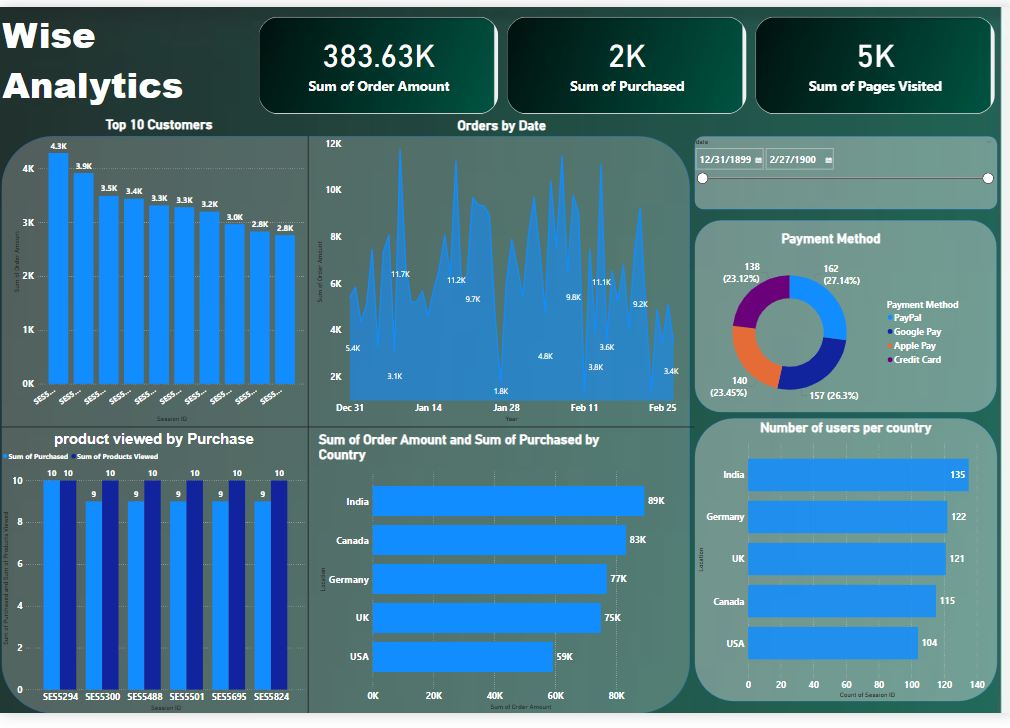

What the dashboard file says about the page in this screenshot:
{"tool":"powerbi","page":{"name":"Page 1","canvas":[2300,1600],"ordinal":0},"visuals":[{"type":"shape","box":[1573.5,483.6,684.6,435.9],"z":0},{"type":"textbox","box":[0,0,579,248.6],"z":1000},{"type":"shape","box":[3.4,292,1558.6,1307.3],"z":2000},{"type":"columnChart","title":"Top 10 Customers","fields":{"Y":["Sum(Sheet1.Order Amount)"],"Category":["Sheet1.Session ID"]},"box":[23.8,247.9,672.3,696.1],"z":3000},{"type":"clusteredColumnChart","title":"product viewed by  Purchase","fields":{"Category":["Sheet1.Session ID"],"Y":["Sum(Sheet1.Purchased)","Sum(Sheet1.Products Viewed)"]},"box":[0,957.6,696.1,641.8],"z":4000},{"type":"shape","box":[658.8,292,78.1,1307.3],"z":5000},{"type":"stackedAreaChart","title":"Orders by Date","fields":{"Category":["Sheet1.date.Variation.Date Hierarchy.Year","Sheet1.date.Variation.Date Hierarchy.Quarter","Sheet1.date.Variation.Date Hierarchy.Month","Sheet1.date.Variation.Date Hierarchy.Day"],"Y":["Sum(Sheet1.Order Amount)"]},"box":[709.7,251.3,852.3,692.7],"z":6000},{"type":"clusteredBarChart","title":"Sum of Order Amount and Sum of Purchased by Country ","fields":{"Category":["Sheet1.Location"],"Y":["Sum(Sheet1.Order Amount)"]},"box":[716.5,961,821.8,635],"z":7000},{"type":"shape","box":[3.4,944,1568.8,13.6],"z":8000},{"type":"donutChart","title":"Payment Method ","fields":{"Y":["CountNonNull(Sheet1.Payment Method)"],"Category":["Sheet1.Payment Method"]},"box":[1562,506,638.4,424.5],"z":9000},{"type":"shape","box":[1572.2,292,685.9,166.4],"z":10000},{"type":"slicer","fields":{"Values":["Sheet1.date"]},"box":[1562,292,696.1,169.8],"z":11000},{"type":"cardVisual","fields":{"Data":["Sum(Sheet1.Order Amount)","Sum(Sheet1.Purchased)","Sum(Sheet1.Pages Visited)"]},"box":[580.7,17,1677.5,230.9],"z":12000},{"type":"shape","box":[1572.2,930.4,685.9,641.8],"z":13000},{"type":"barChart","title":"Number of users per country ","fields":{"Category":["Sheet1.Location"],"Y":["CountNonNull(Sheet1.Session ID)"]},"box":[1573.5,933.2,684.6,636.9],"z":14000}]}

Visuals, with their boxes in screenshot pixels (x1, y1, x2, y2):
shape: select_region(693, 214, 1001, 410)
textbox: select_region(0, 0, 247, 109)
shape: select_region(0, 128, 688, 715)
"Top 10 Customers" columnChart: select_region(0, 109, 299, 421)
"product viewed by  Purchase" clusteredColumnChart: select_region(0, 427, 299, 715)
shape: select_region(283, 128, 318, 715)
"Orders by Date" stackedAreaChart: select_region(305, 110, 688, 421)
"Sum of Order Amount and Sum of Purchased by Country " clusteredBarChart: select_region(309, 429, 678, 714)
shape: select_region(0, 421, 693, 427)
"Payment Method " donutChart: select_region(688, 225, 975, 415)
shape: select_region(693, 128, 1001, 203)
slicer - Sheet1.date: select_region(688, 128, 1001, 205)
cardVisual - Sum(Sheet1.Order Amount) x Sum(Sheet1.Purchased): select_region(248, 5, 1001, 109)
shape: select_region(693, 415, 1001, 703)
"Number of users per country " barChart: select_region(693, 416, 1001, 702)
